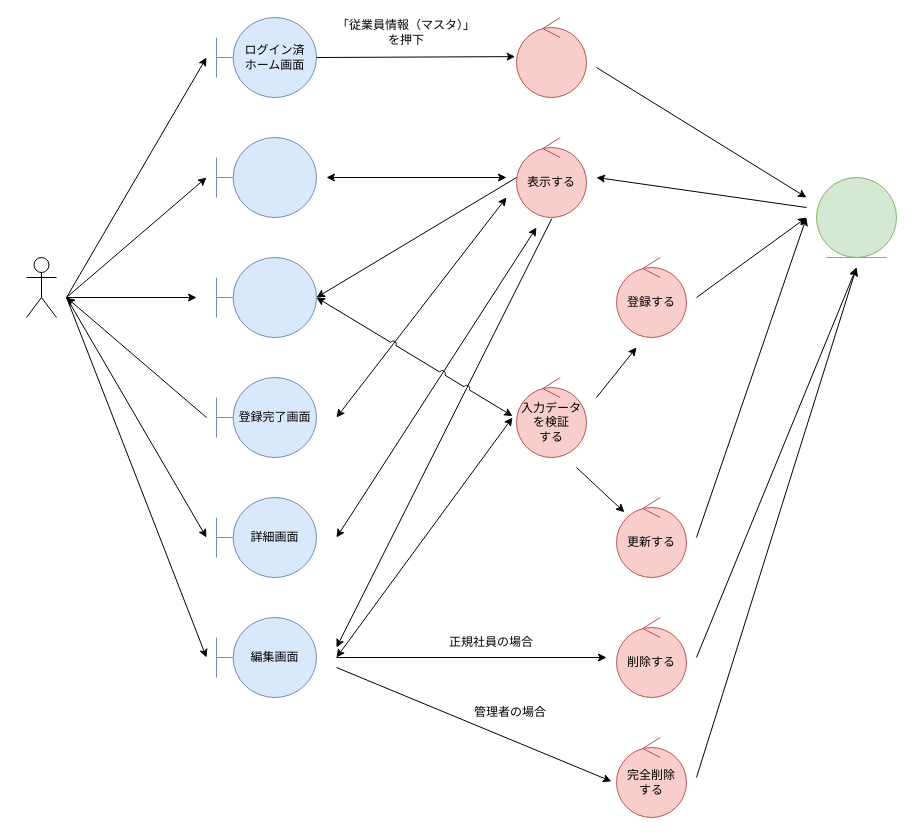
This 914x835 diagram has some shape labels left out. Here are the shapes that lost their labels. From the top down, the centre of each, then its label:
At (x=551, y=57): "従業員情報 を取得する".
At (x=266, y=177): "従業員情報 一覧画面".
At (x=856, y=217): "従業員情報".
At (x=41, y=287): "管理者 正規社員".
At (x=266, y=297): "新規登録 画面".
